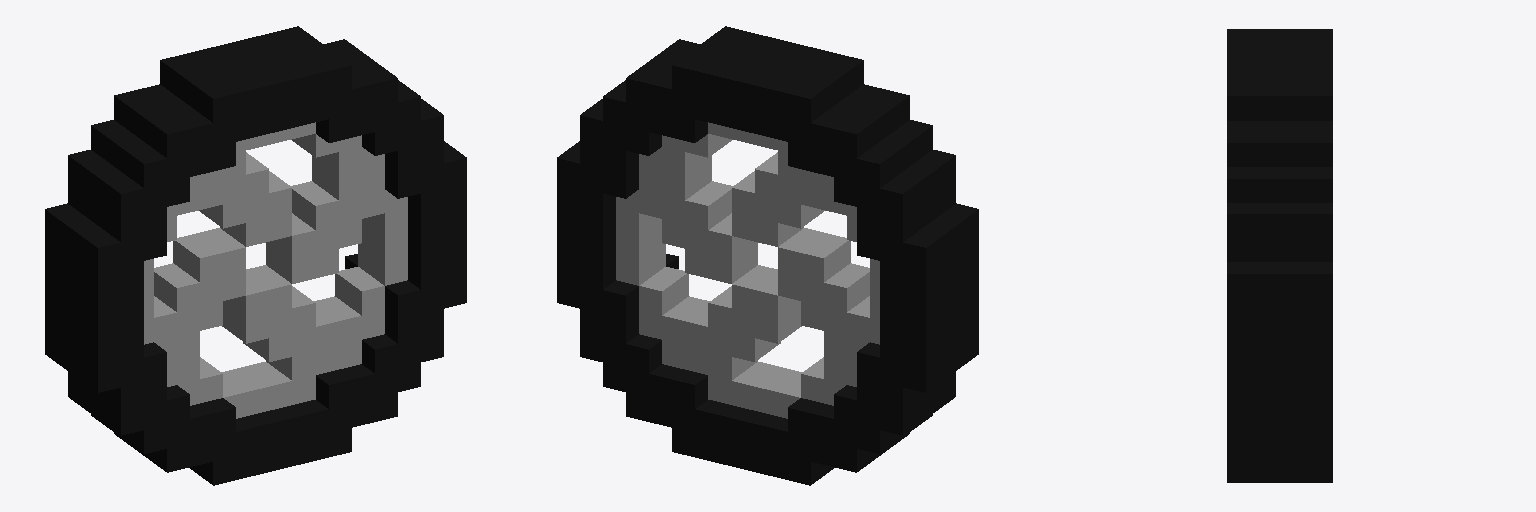
3 views of the same model, side by side, from view 1: azimuth 30°, elevation 25°; view 2: azimuth 150°, elevation 25°; view 3: azimuth 270°, elevation 25° (orthographic).
Visible parts, largest first — view 1: object 1; view 2: object 1; view 3: object 1.
Part boxes in pixels (x1,y1,x2,y2): object 1: (45,26,466,485); object 1: (557,26,978,485); object 1: (1227,29,1332,482).
Bounding box in the file's own units: 1.6 × 1.6 × 0.4.
1 materials, 1 textured.